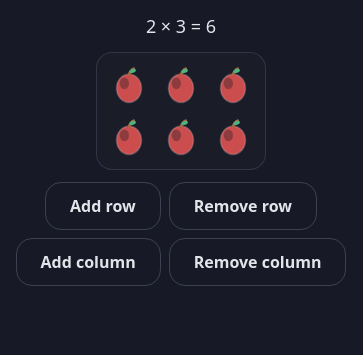
manipulatives › updates array product when rows or cols change
Check: the text with test id "array-grid-product" shows "2", box [146, 14, 216, 38]
Check: the text with test id "array-grid-product" shows "3", box [146, 14, 216, 38]
Step 1. Click the button "Add row" → (103, 206), box [45, 182, 161, 230]
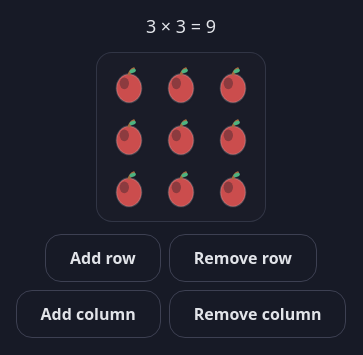
Check: the number of cells is 9
Check: the text with test id "array-grid-product" shows "9", box [146, 14, 216, 38]
